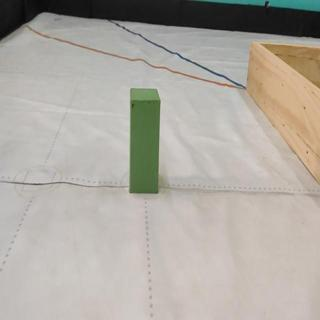greenbox: (126, 83, 164, 196)
